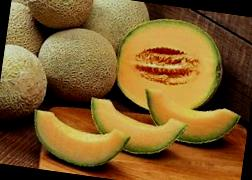Melon Ripe: (112, 11, 228, 120), (32, 22, 123, 108), (136, 86, 244, 152), (84, 94, 191, 160), (26, 108, 132, 172)
